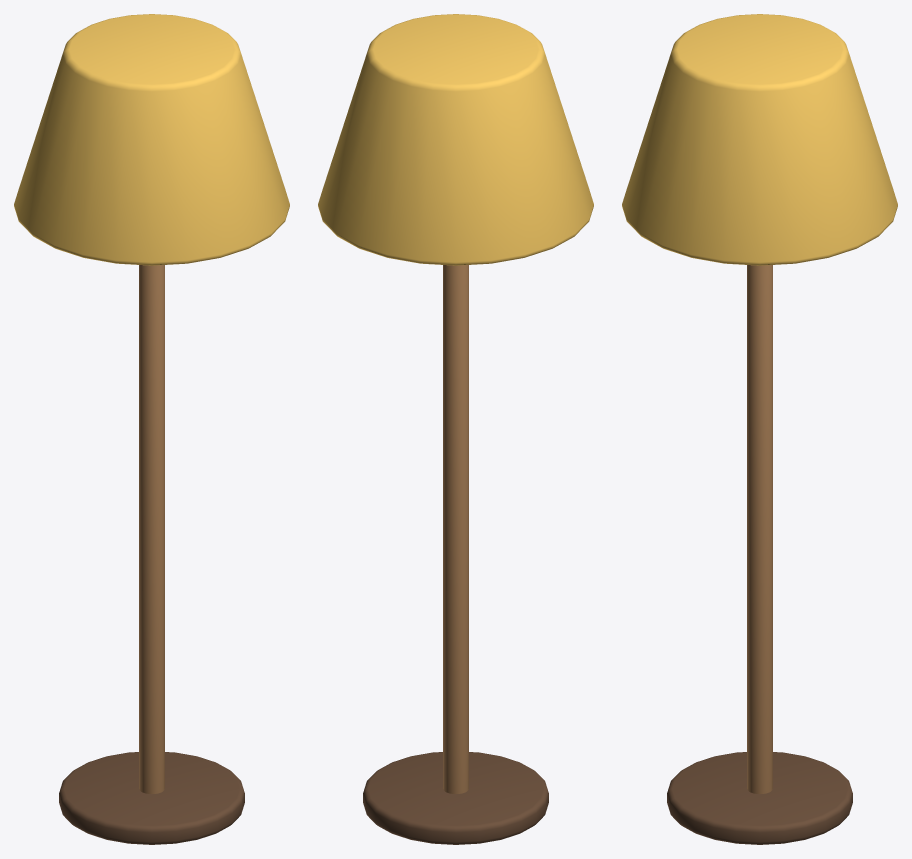
The model's file is lamp_floor.glb.
3 views of the same model, side by side, from view 1: azimuth 30°, elevation 25°; view 2: azimuth 150°, elevation 25°; view 3: azimuth 270°, elevation 25° (orthographic).
Visible parts, largest first — view 1: lamp_floor; view 2: lamp_floor; view 3: lamp_floor.
Part boxes in pixels (bbox=[...]): lamp_floor: bbox=[14, 14, 289, 844]; lamp_floor: bbox=[318, 14, 593, 844]; lamp_floor: bbox=[622, 14, 897, 844].
Bounding box in the file's own units: 0.5345 × 1.62 × 0.5345.
